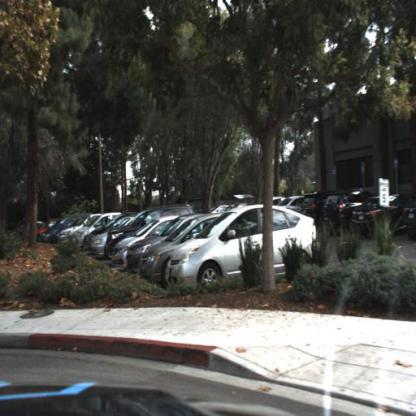car: (165, 203, 324, 296), (167, 202, 319, 291), (137, 213, 234, 296), (142, 213, 203, 282), (111, 217, 179, 268), (105, 208, 151, 260), (110, 220, 160, 267), (126, 225, 176, 272), (42, 217, 76, 244), (89, 230, 111, 260), (72, 224, 89, 254), (57, 222, 75, 250), (41, 220, 59, 245)
